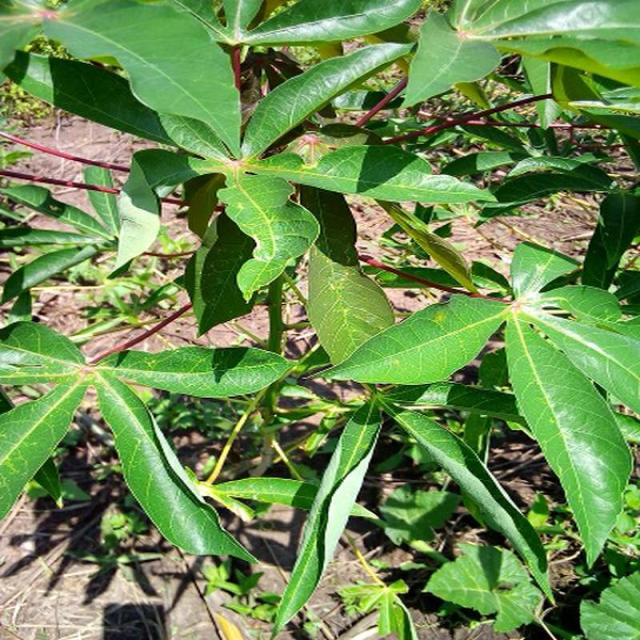cassava leaf: (2, 1, 640, 635), (505, 309, 634, 570), (93, 365, 261, 564), (324, 291, 511, 386)
